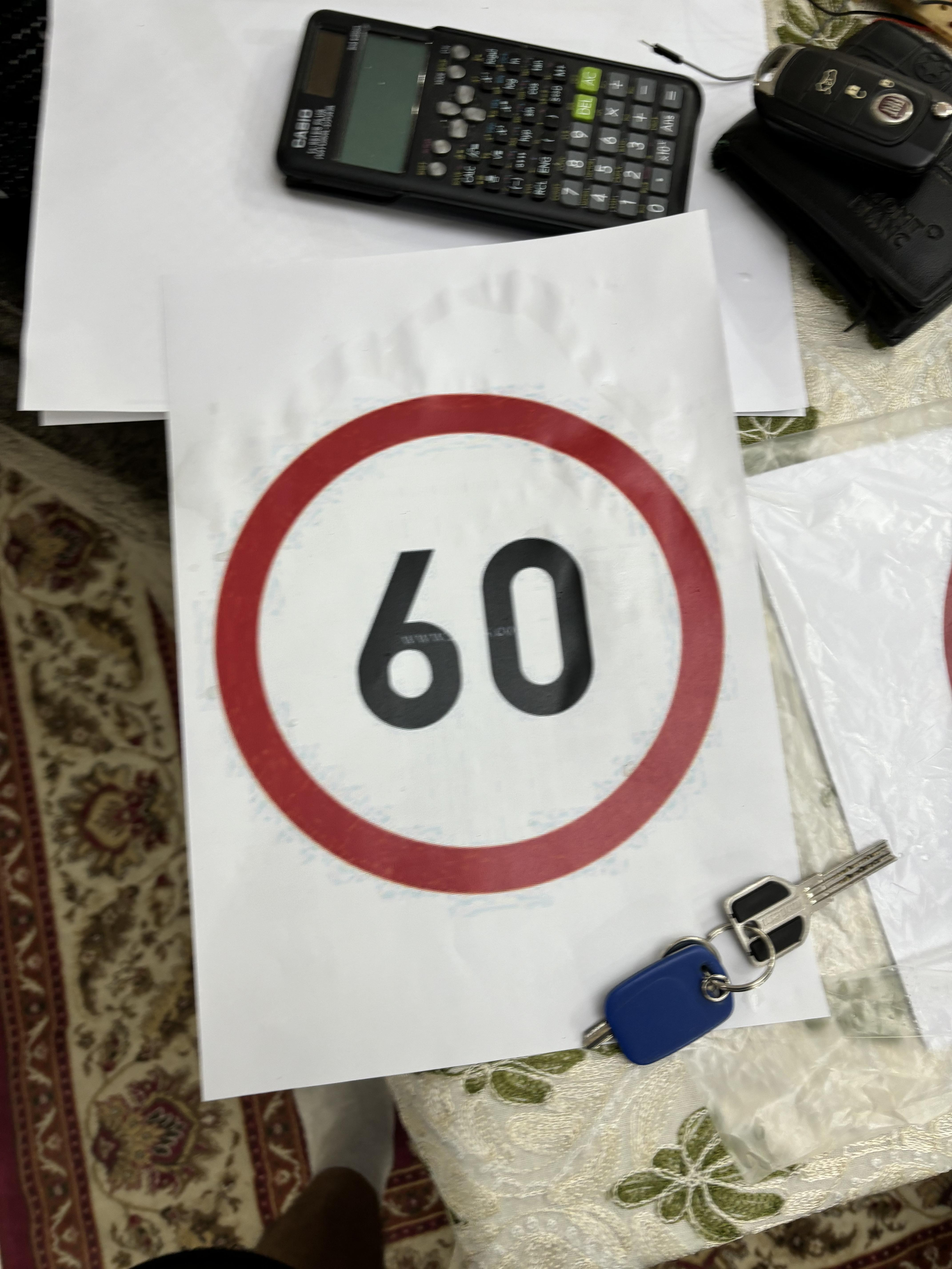60-Speed: (207, 376, 740, 902)
